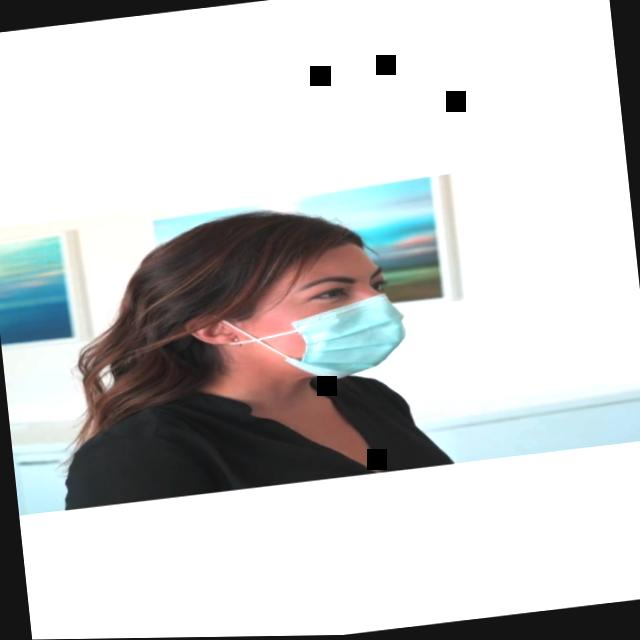Mask: (226, 216, 416, 393)
